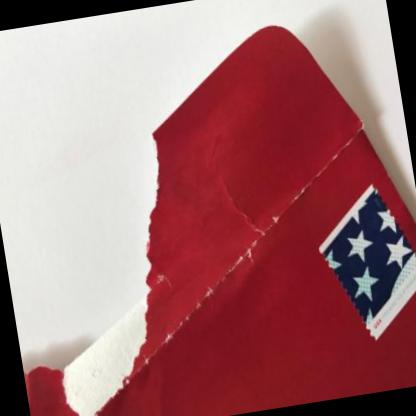Paper: (24, 26, 416, 416)
